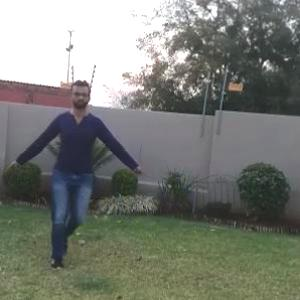land: (19, 89, 132, 244)
